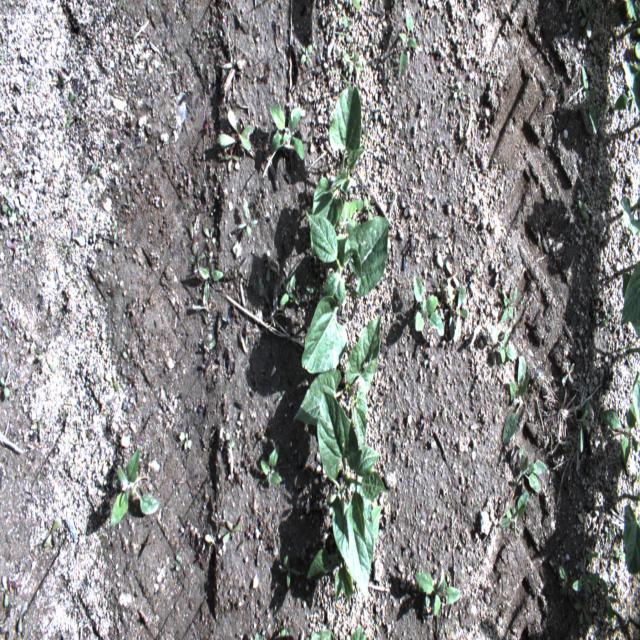crop: (301, 208, 388, 378), (308, 438, 392, 602), (292, 310, 383, 450), (307, 90, 367, 238), (109, 441, 159, 524), (620, 40, 640, 116), (622, 260, 640, 332), (260, 445, 282, 490), (278, 276, 300, 308)
weed: (600, 369, 638, 469), (411, 566, 461, 622), (502, 350, 532, 443), (557, 562, 599, 624), (267, 101, 309, 162), (412, 271, 443, 336), (581, 67, 610, 134), (513, 442, 551, 491), (442, 278, 470, 344), (219, 107, 255, 153), (396, 14, 416, 81), (196, 266, 226, 305), (502, 488, 530, 529), (618, 503, 634, 572), (276, 550, 301, 589), (306, 626, 371, 639), (617, 196, 636, 240), (577, 0, 599, 37), (237, 202, 259, 237), (578, 401, 592, 454), (480, 512, 512, 532), (43, 517, 63, 548), (624, 0, 640, 36), (298, 40, 314, 75), (336, 8, 354, 39), (2, 194, 16, 228), (16, 602, 29, 636), (224, 150, 241, 176), (343, 52, 363, 74), (498, 332, 510, 366), (1, 367, 12, 398), (0, 572, 10, 606), (613, 91, 630, 110), (199, 332, 215, 352), (503, 295, 515, 320), (204, 227, 220, 244), (578, 203, 586, 222)
